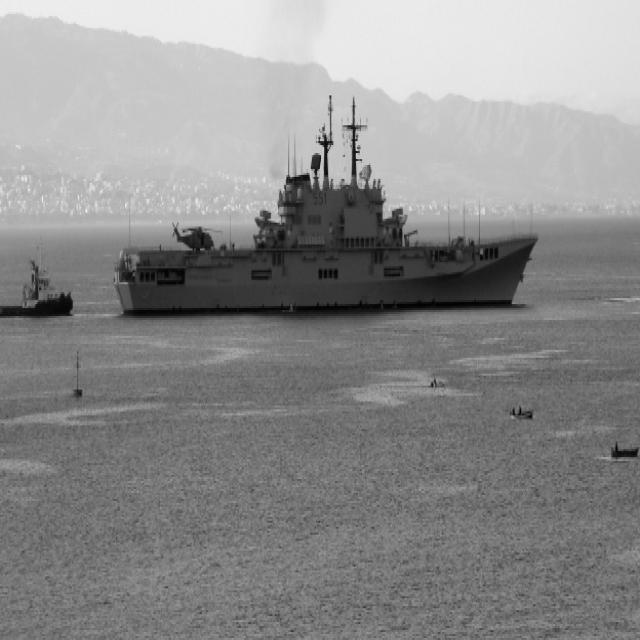Portanaves: (113, 90, 540, 329)
